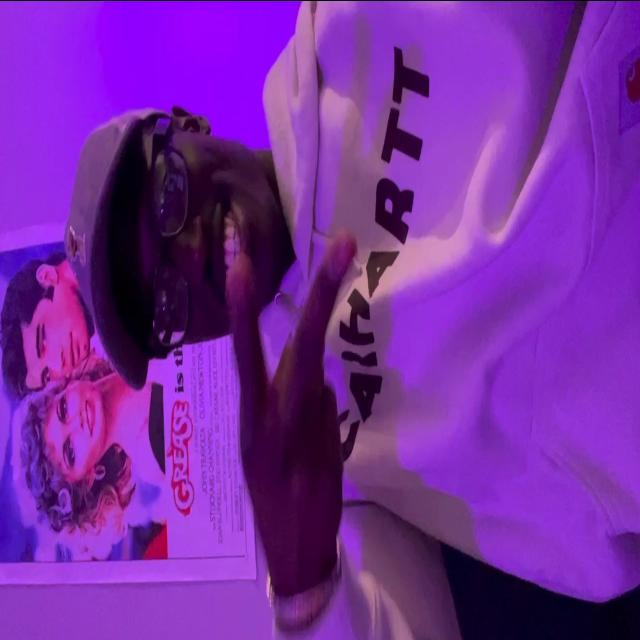Scissors: (225, 228, 357, 608)
